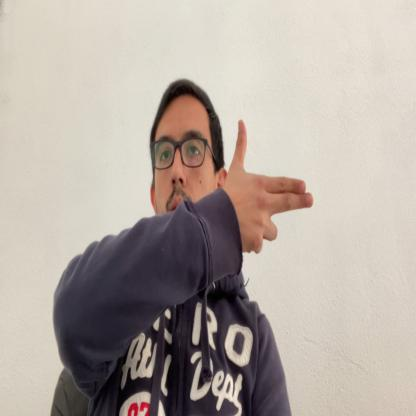H: (228, 119, 315, 254)
